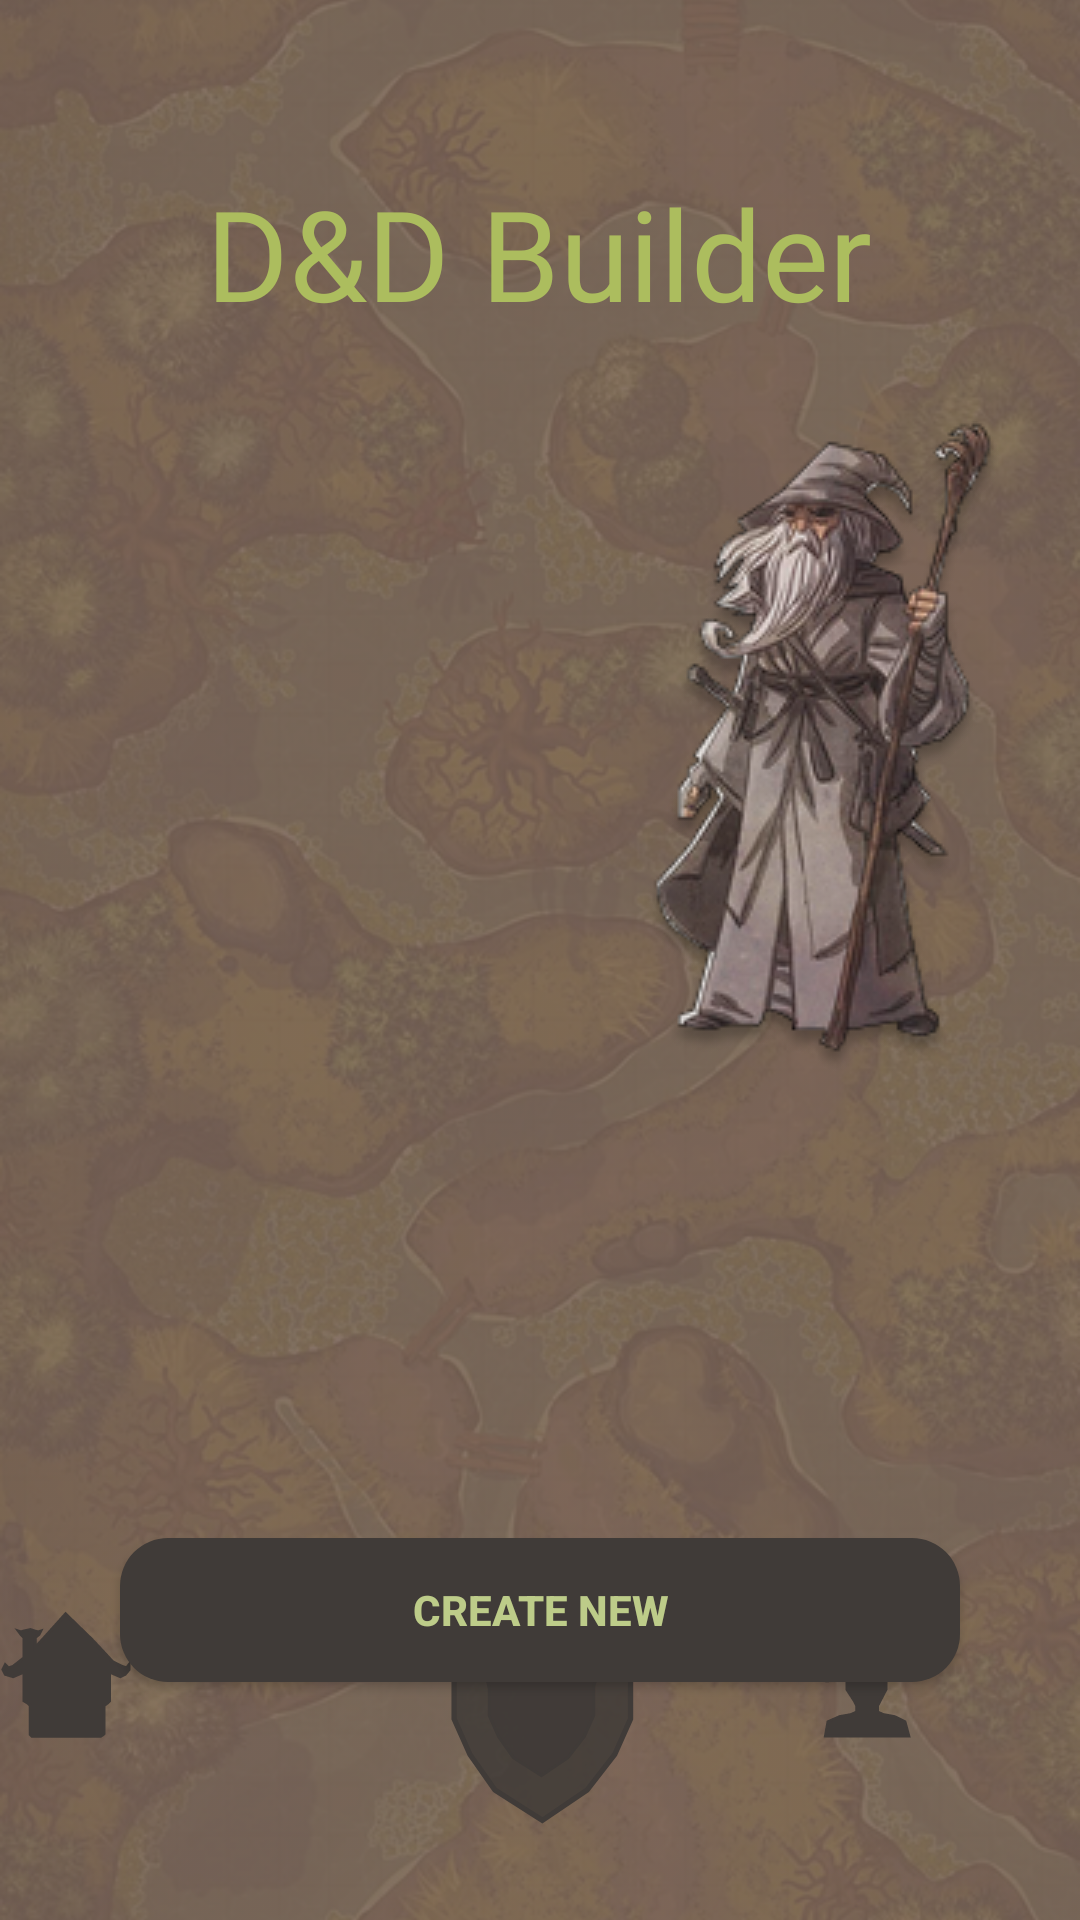

Point at icon controls on the screen. Image size 1080x1920, points as (x,y).
mini house: (66,1674)
